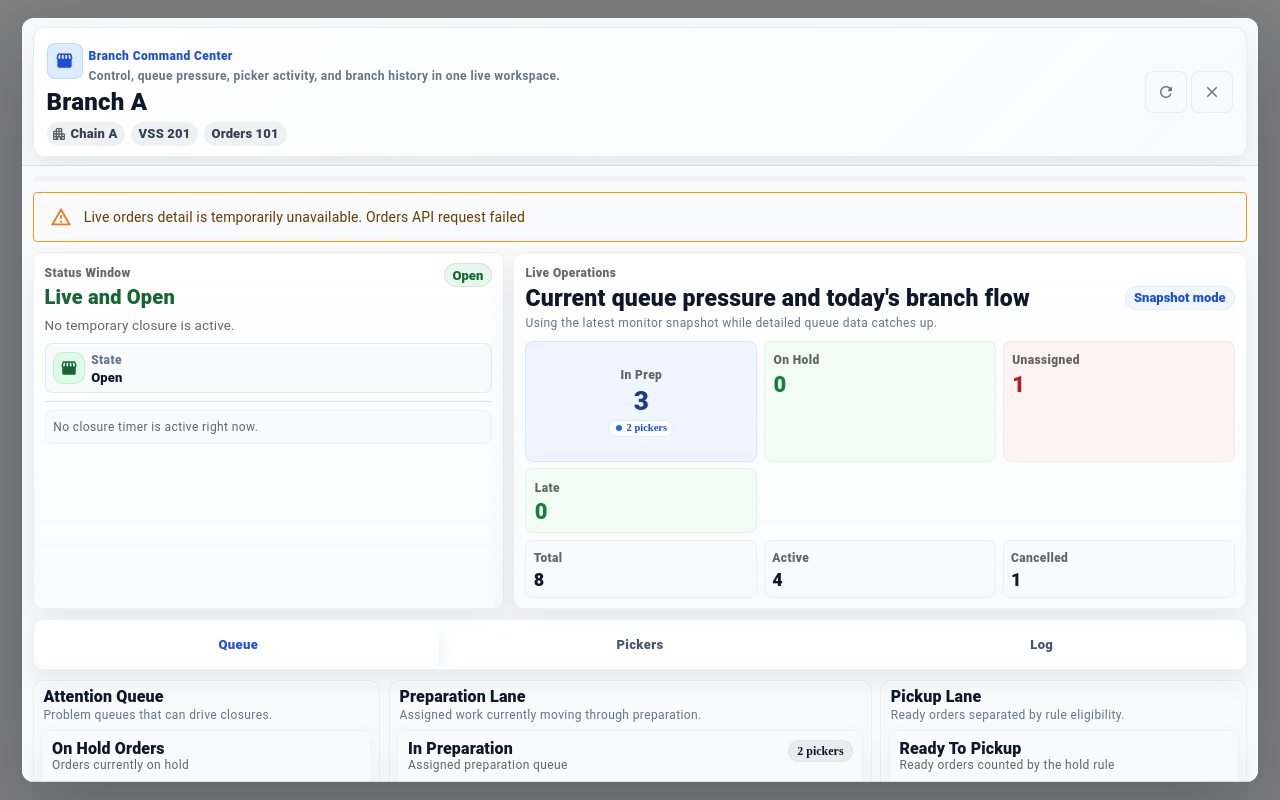
BranchDetailDialog › shows recent active as unavailable when the orders cache is not fresh
The width and height of the screenshot is (1280, 800).
Click the tab "Pickers". click: (640, 645)
box: [439,624,841,666]
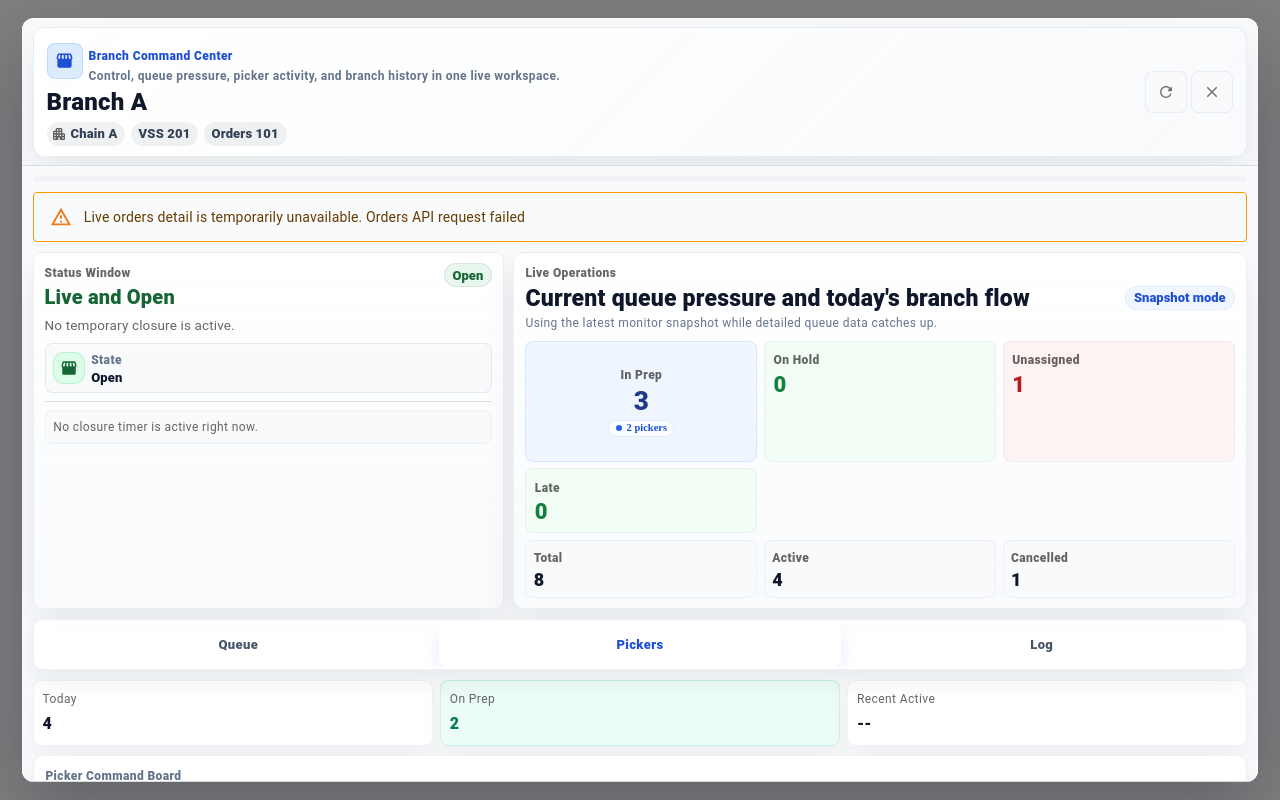
Expected: the text "Recent Active" is shown once, [857,692,935,706]
Expected: the text "--" is shown, [857,714,872,733]
